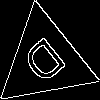D: (20, 35, 74, 94)
